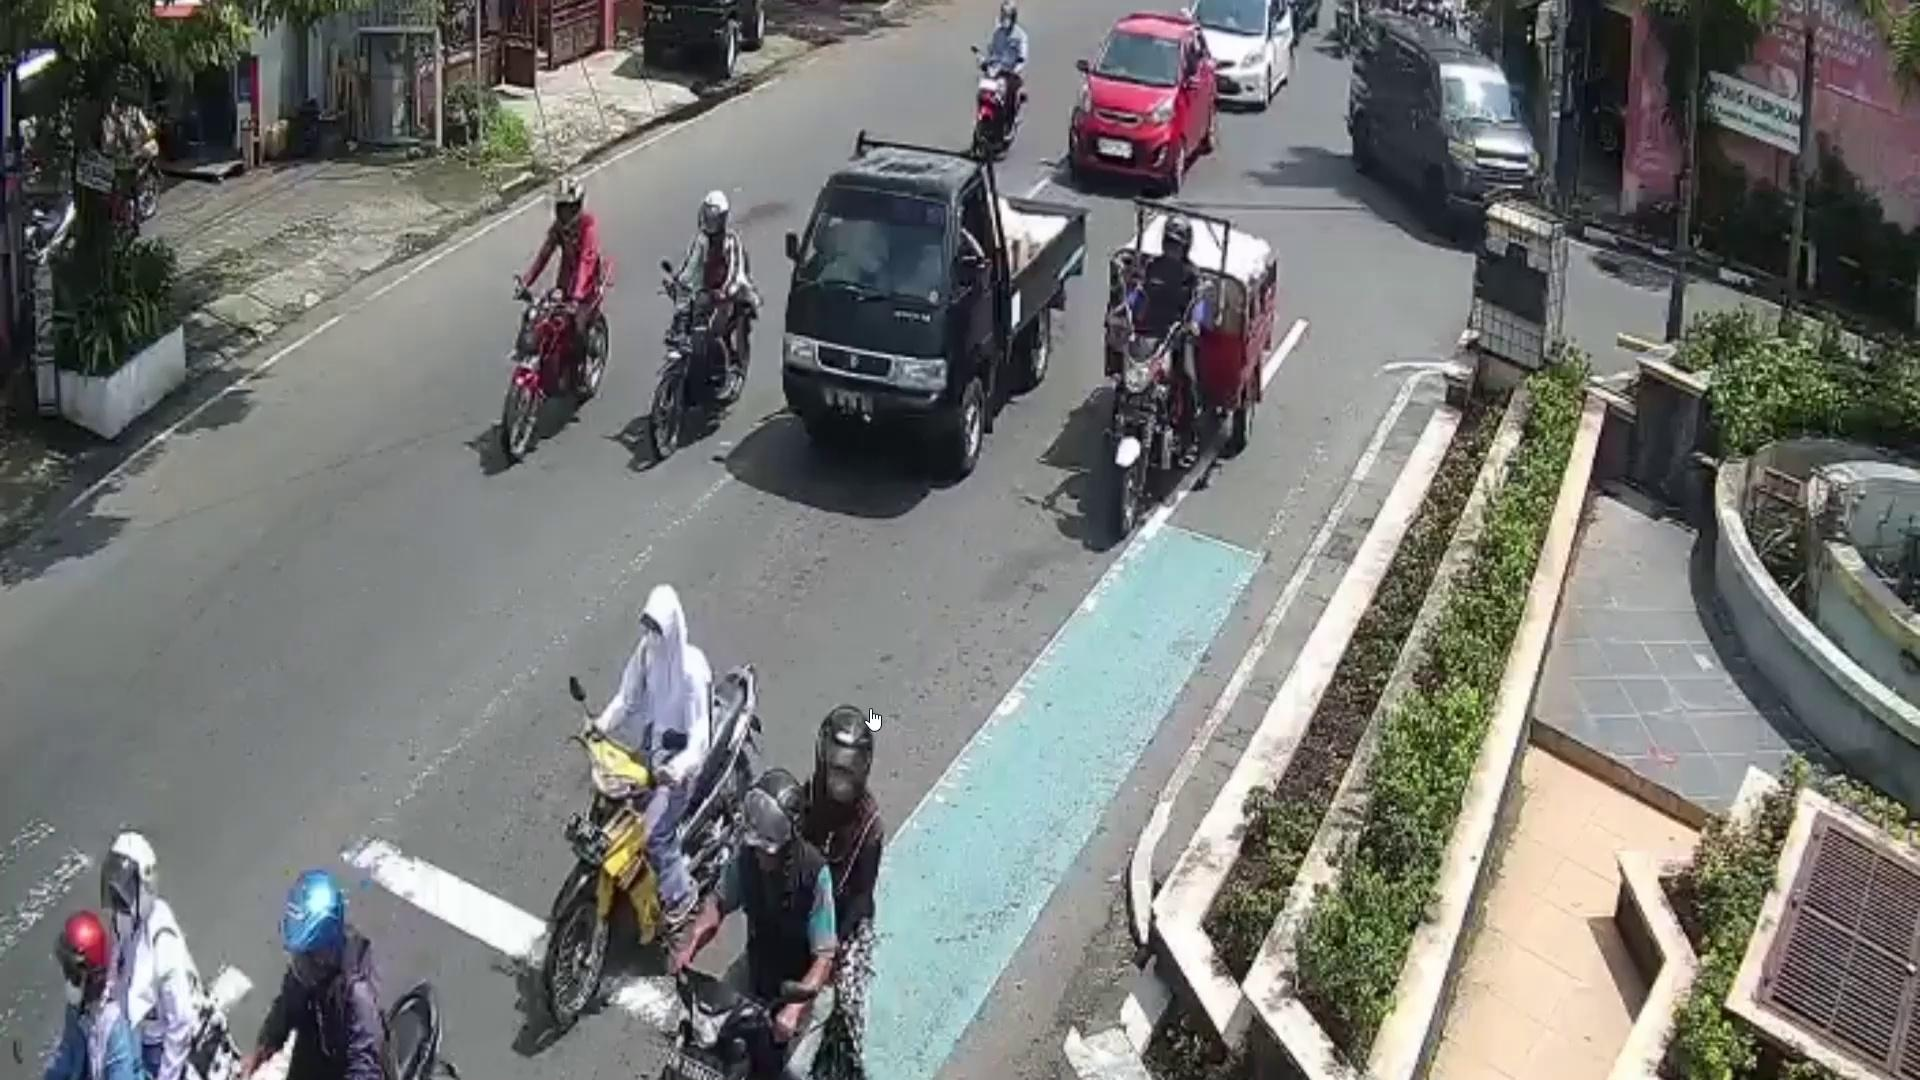car: (775, 137, 1091, 513), (1338, 7, 1553, 251), (1067, 13, 1222, 185), (1179, 0, 1311, 115)
motorbike: (539, 649, 761, 1021), (505, 248, 616, 455), (649, 258, 752, 455), (1112, 318, 1185, 541), (968, 46, 1030, 166)
